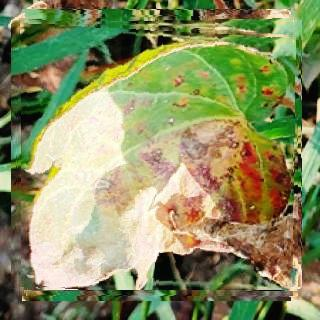blight: (15, 14, 298, 296)
curl: (21, 15, 296, 290)
